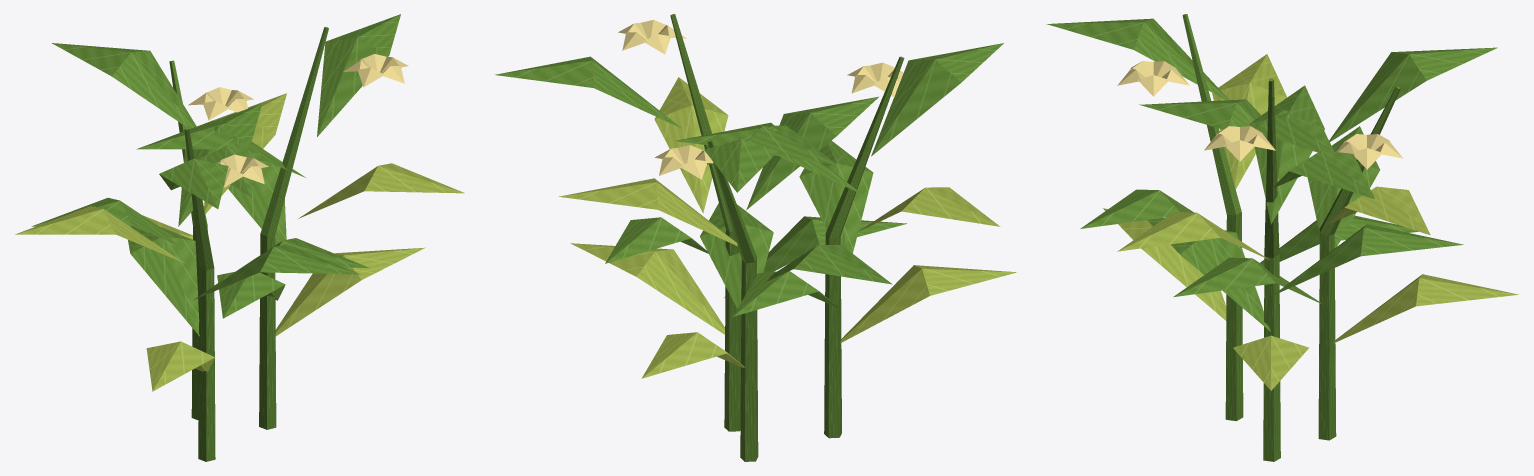
The model's file is crop-tomato-flowering.glb.
The picture shows the model from 3 angles, left to right: view 1: azimuth 30°, elevation 25°; view 2: azimuth 150°, elevation 25°; view 3: azimuth 270°, elevation 25°; orthographic projection. The views are drawn at different scales.
Visible parts, largest first — view 1: crop-tomato-flowering; view 2: crop-tomato-flowering; view 3: crop-tomato-flowering.
Part boxes in pixels (bbox=[...]): crop-tomato-flowering: bbox=[15, 14, 464, 461]; crop-tomato-flowering: bbox=[495, 14, 1016, 461]; crop-tomato-flowering: bbox=[1046, 14, 1518, 461].
Bounding box in the file's own units: 0.775 × 0.6512 × 0.6823.
Materials: 1 (1 with a texture image).
